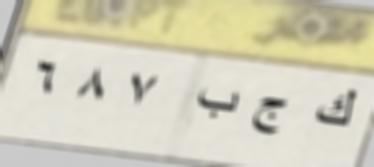6: (26, 54, 68, 98)
7: (126, 69, 166, 110)
8: (72, 62, 112, 108)
baa: (191, 88, 244, 124)
jeem: (247, 93, 292, 142)
kaaf: (312, 80, 358, 136)
